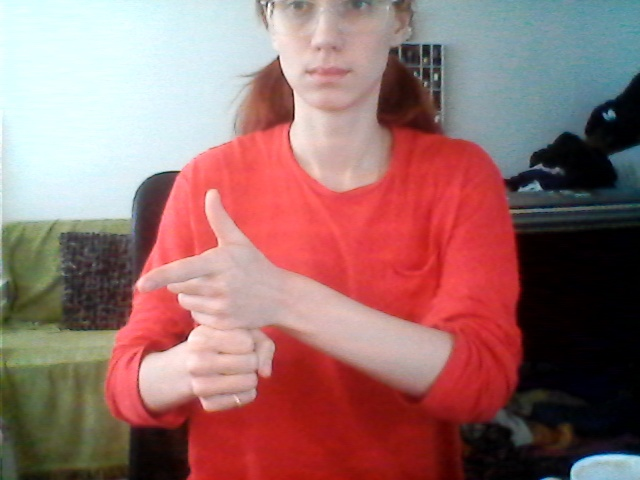kamera: (127, 186, 290, 428)
